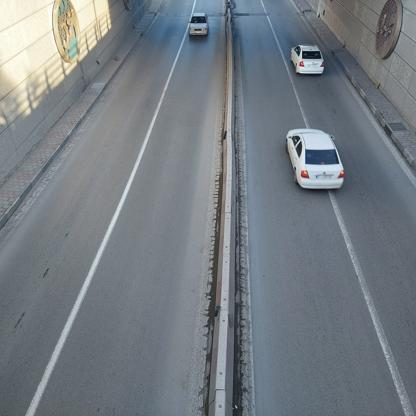Car: (280, 130, 344, 188), (287, 43, 323, 79), (185, 8, 209, 42)
